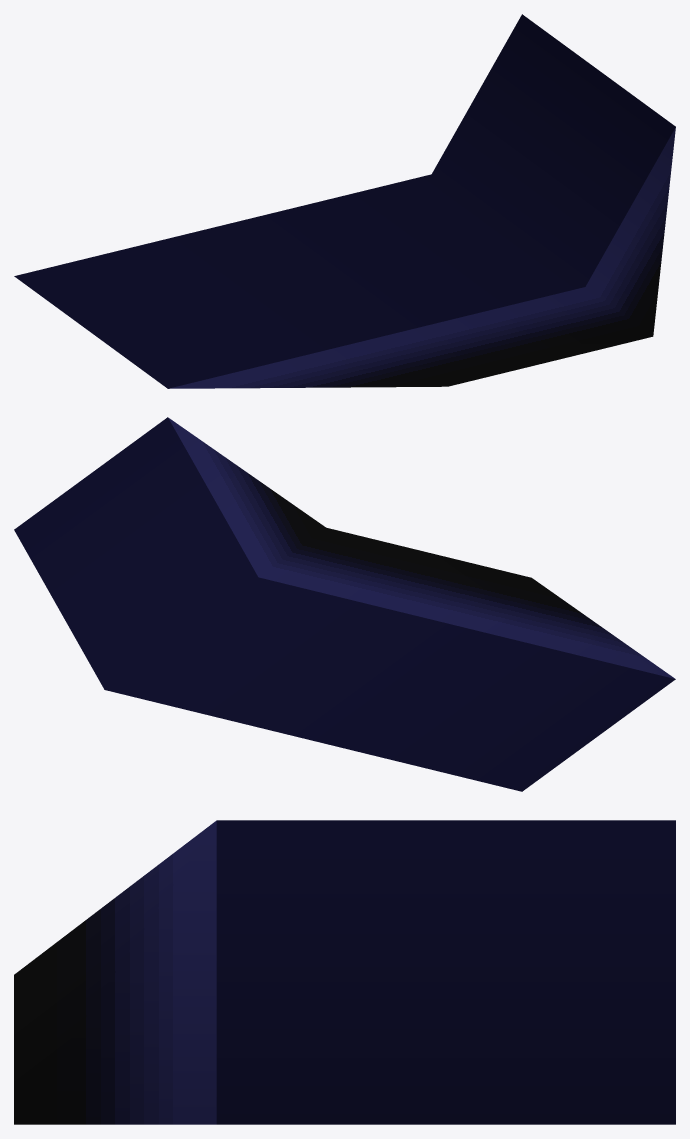
3 views of the same model, one above another, from view 1: azimuth 30°, elevation 25°; view 2: azimuth 150°, elevation 25°; view 3: azimuth 270°, elevation 25° (orthographic). The views are drawn at different scales.
Parts seen in each view (by area): view 1: Joint_0_Object_0; view 2: Joint_0_Object_0; view 3: Joint_0_Object_0.
Boxes of the visible parts, bbox=[...] form: Joint_0_Object_0: bbox=[14, 14, 675, 388]; Joint_0_Object_0: bbox=[14, 417, 675, 791]; Joint_0_Object_0: bbox=[14, 820, 675, 1124].
Bounding box in the file's own units: 1216 × 316 × 919.
1 material, 1 textured.
